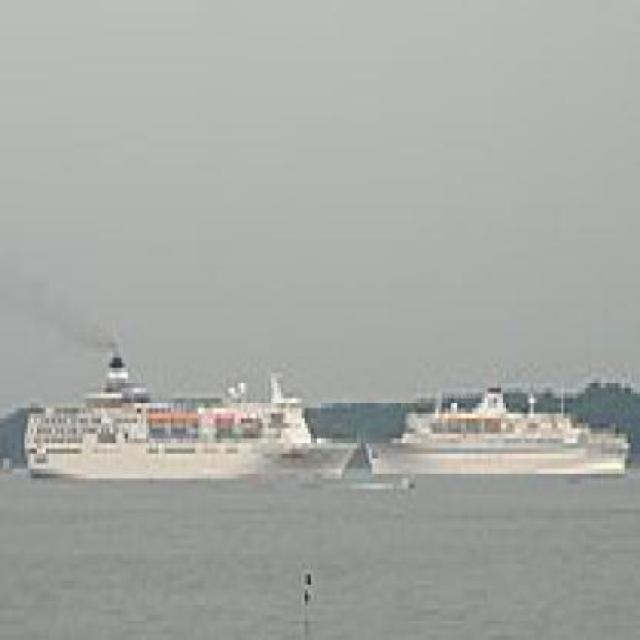cruise: (7, 333, 370, 495)
